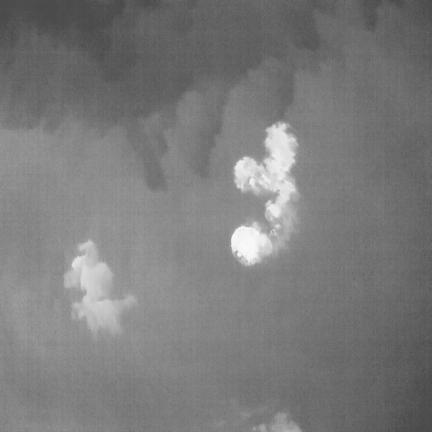flukeprints: (64, 240, 136, 335), (234, 123, 298, 217), (232, 225, 272, 265)
